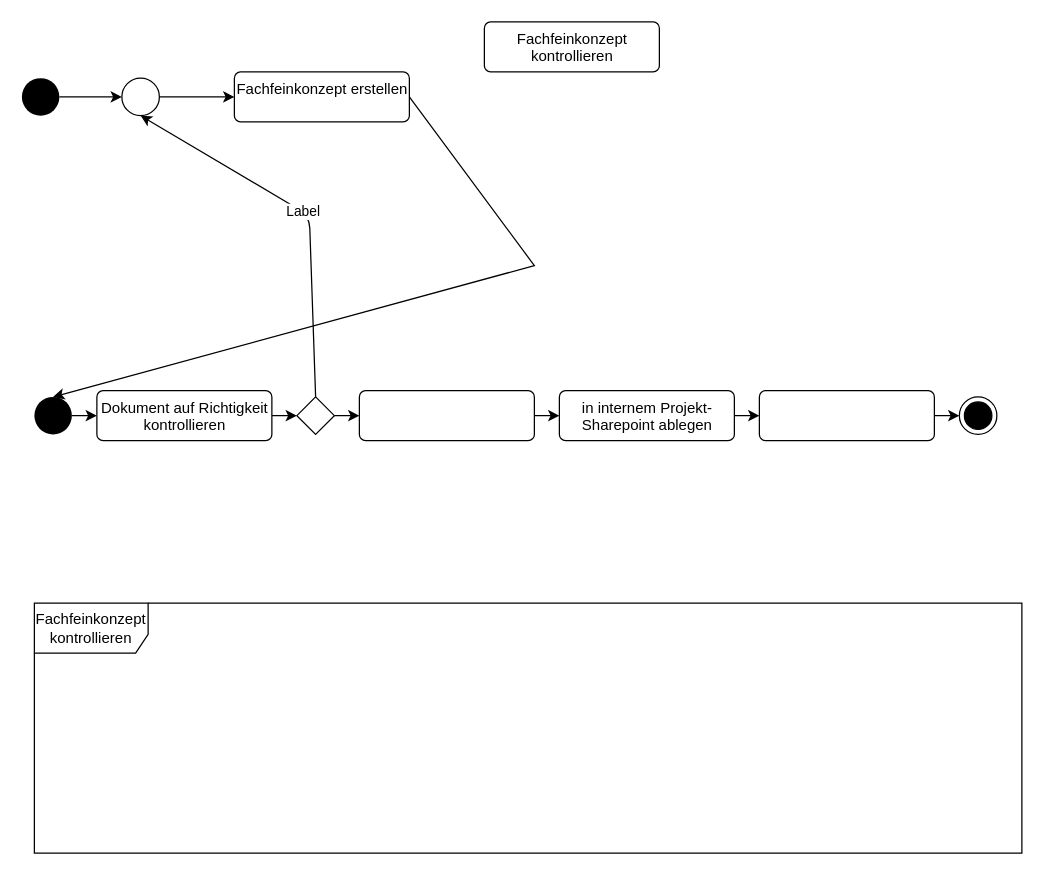
This 1044x875 diagram has some shape labels left out. The shapes that lost their labels are listed below. From the top down, each one's centre as x and y in pixels, then its label:
At point (446, 415): "In einheitliches Format bringen".
At point (846, 415): "Stakeholder benachrichtigen".
